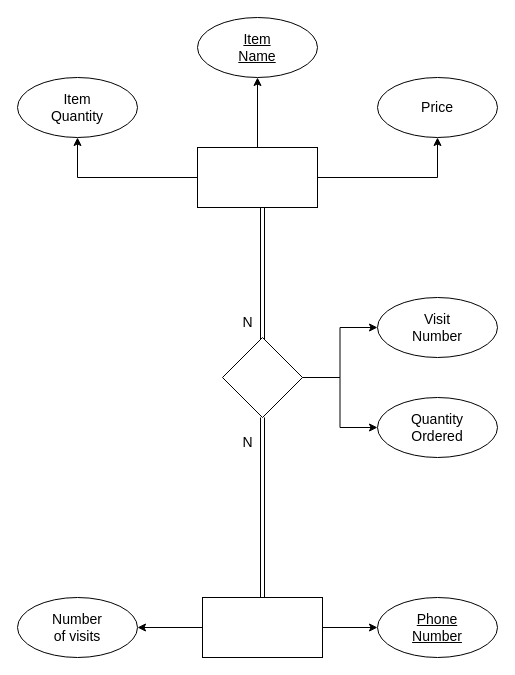
The diagram is 515 pixels wide and 675 high, and some of its shapes have lost their labels. Here are the shapes that lost their labels. From the top down, the centre of each, then its label:
At point 257,177: "Item".
At point 262,377: "Orders".
At point 262,627: "User".
